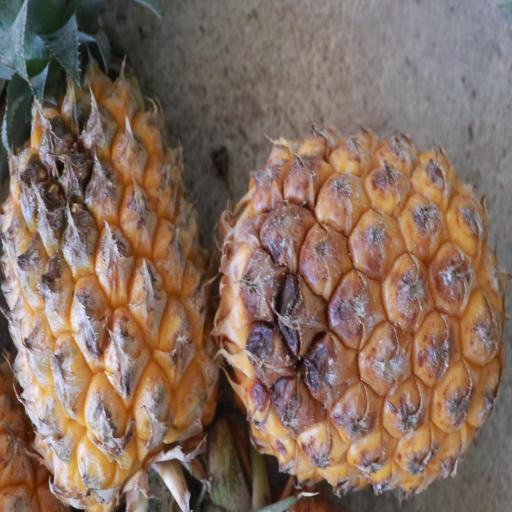Pineapple - v8 v1: (0, 4, 220, 511), (210, 136, 505, 504)
